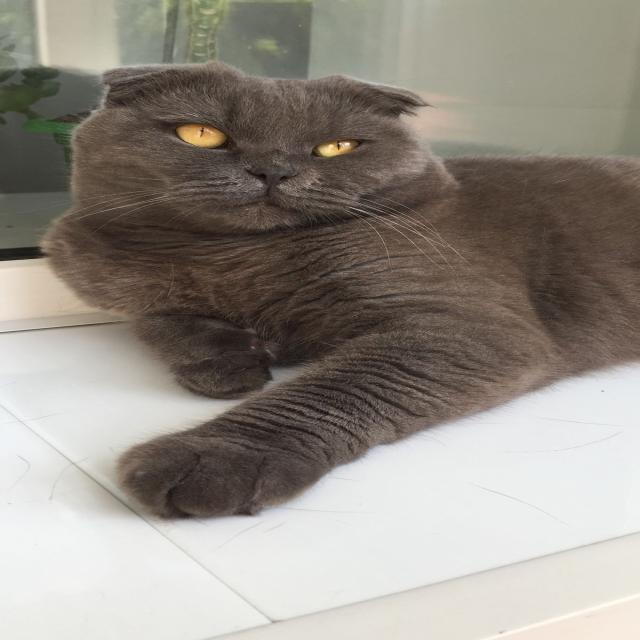british shorthair: (0, 48, 640, 608)
